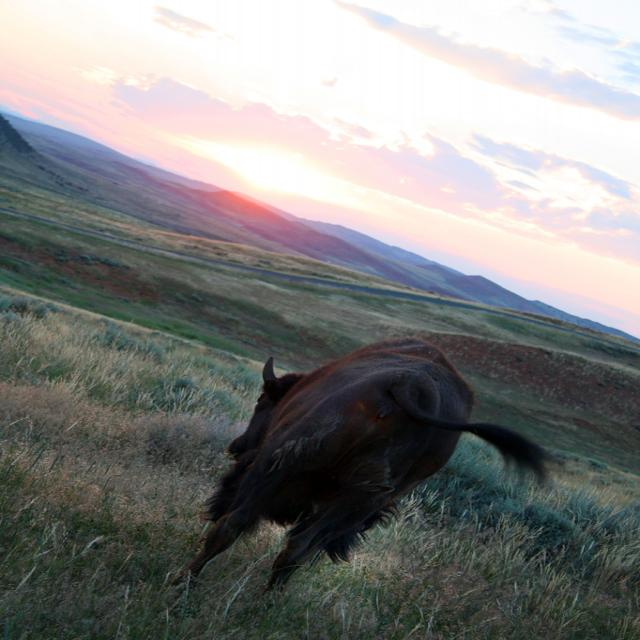Horse: (188, 344, 571, 598)
